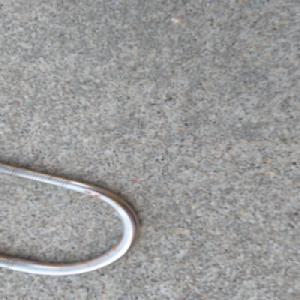ClampPart: (0, 159, 145, 276)
